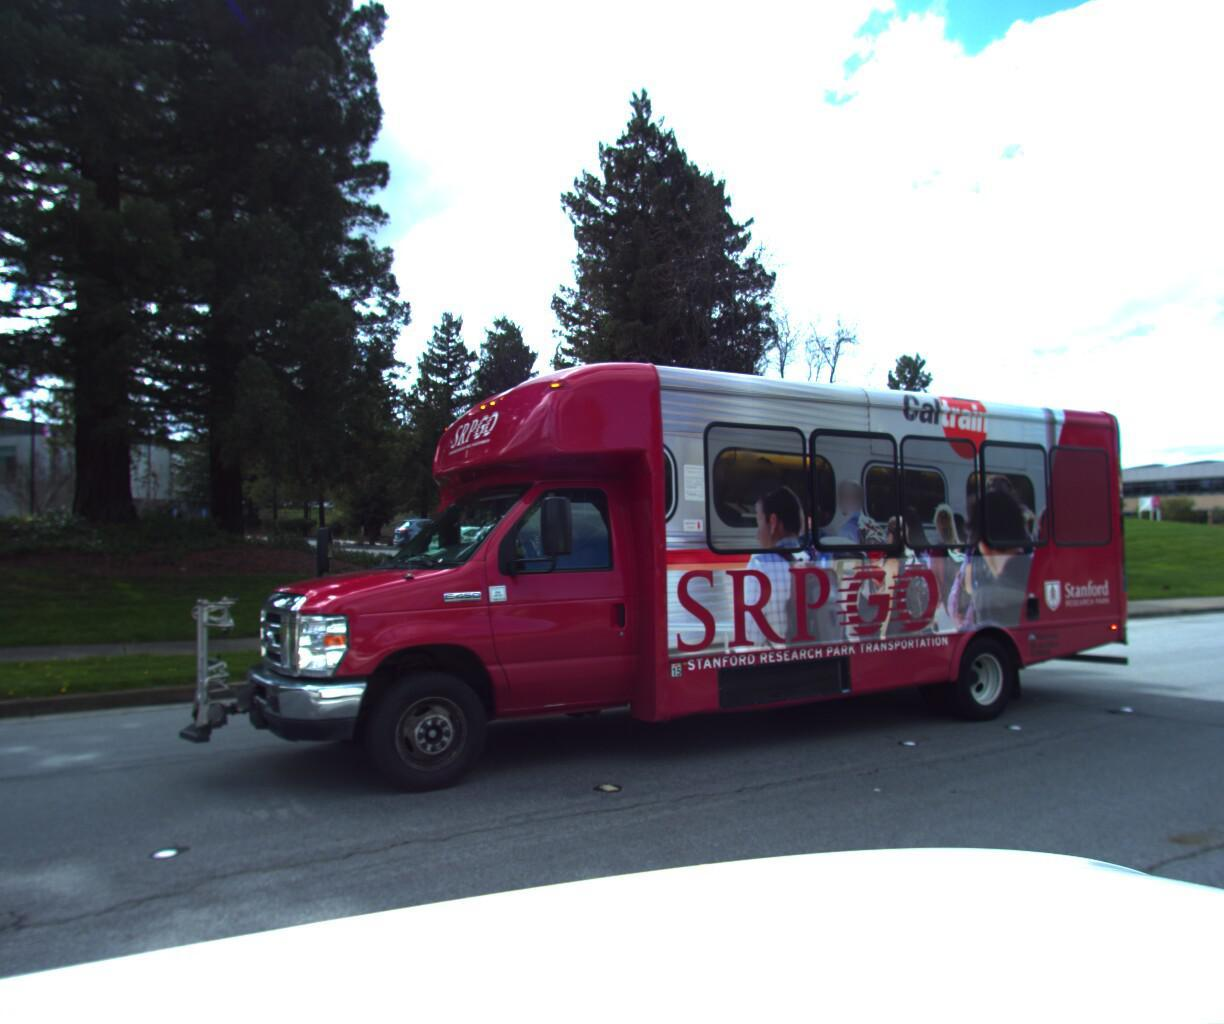bus: (149, 240, 1151, 889)
